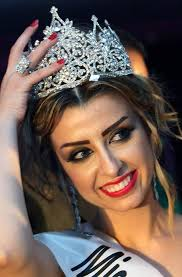middle_eastern_Female: (44, 73, 157, 217)
